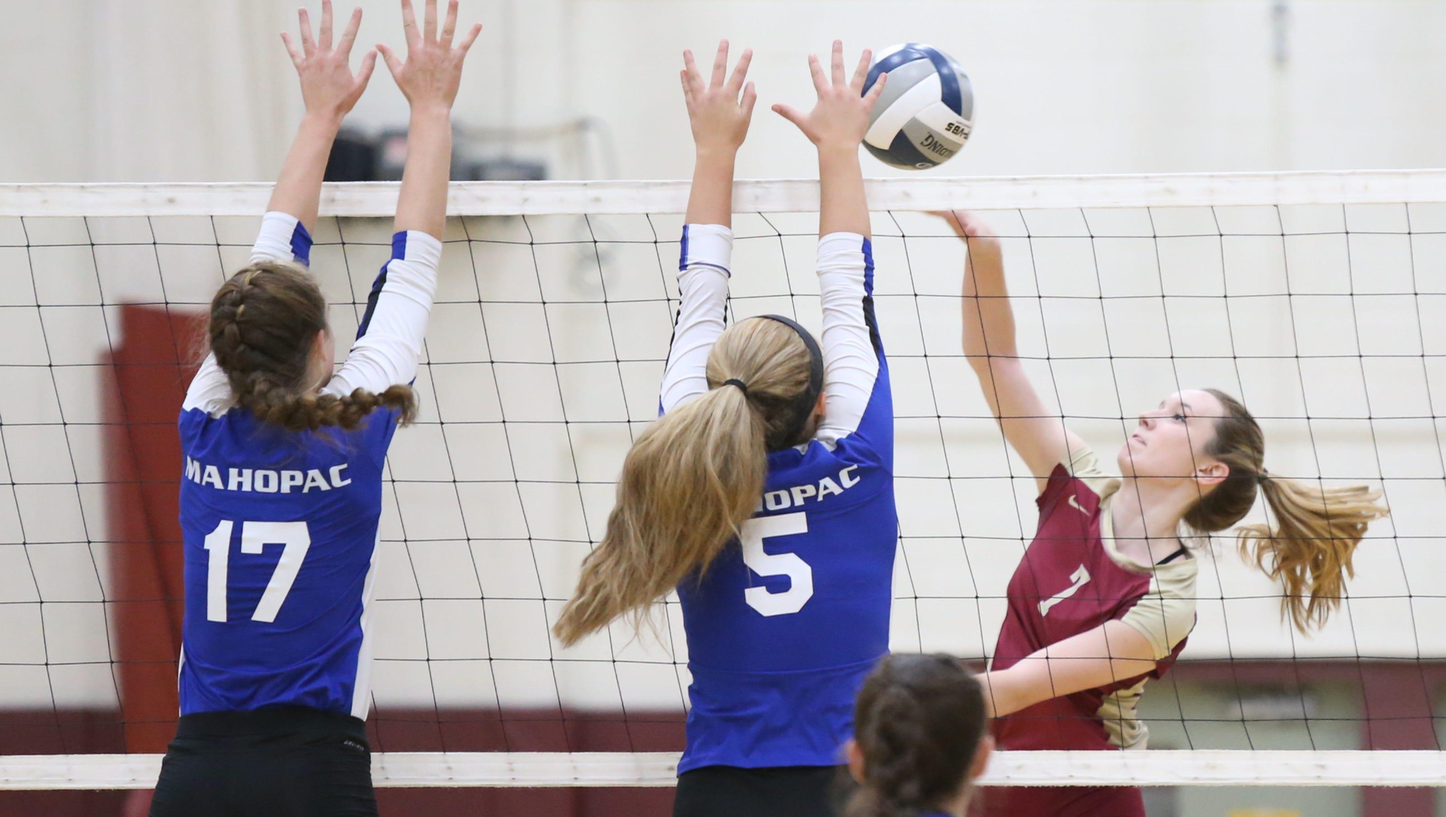ballon_volley: (848, 40, 977, 172)
